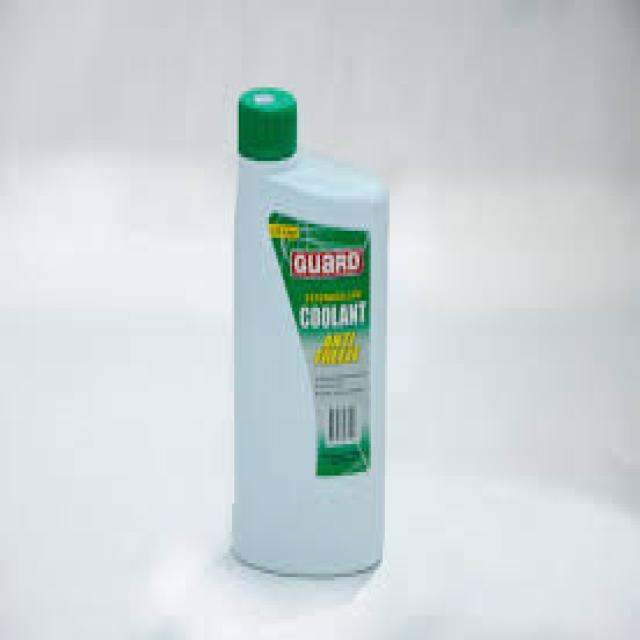coolant: (224, 80, 388, 580)
